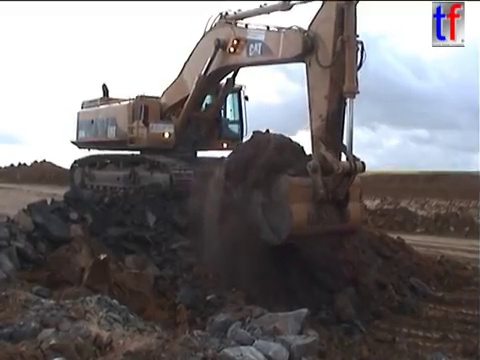excavator: (65, 1, 372, 249)
